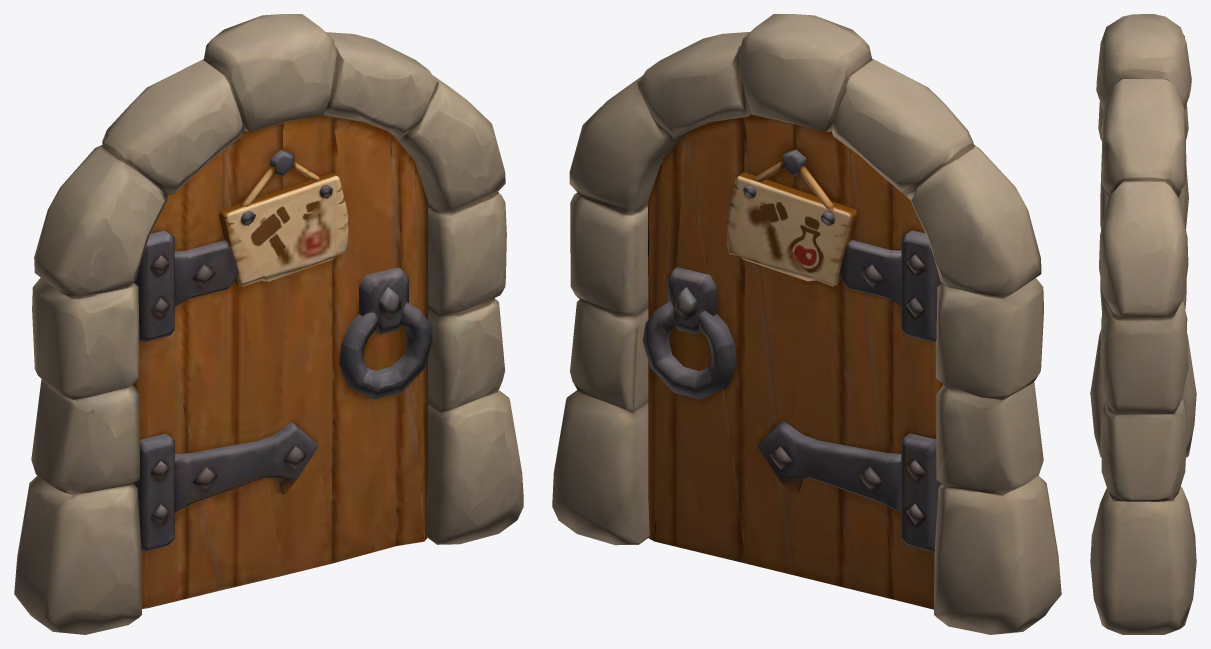
Rendered from trappe.glb.
3 renders of one model, left to right at view 1: azimuth 30°, elevation 25°; view 2: azimuth 150°, elevation 25°; view 3: azimuth 270°, elevation 25°, orthographic. The views are drawn at different scales.
Visible parts, largest first — view 1: geometry_0; view 2: geometry_0; view 3: geometry_0.
Part boxes in pixels (box(x1,y1,x2,y2)): geometry_0: box(14, 14, 523, 634); geometry_0: box(552, 14, 1061, 634); geometry_0: box(1090, 14, 1196, 634).
Size of the model in its own units: 0.8824 by 0.9531 by 0.1821.
Materials: 1 (1 with a texture image).
